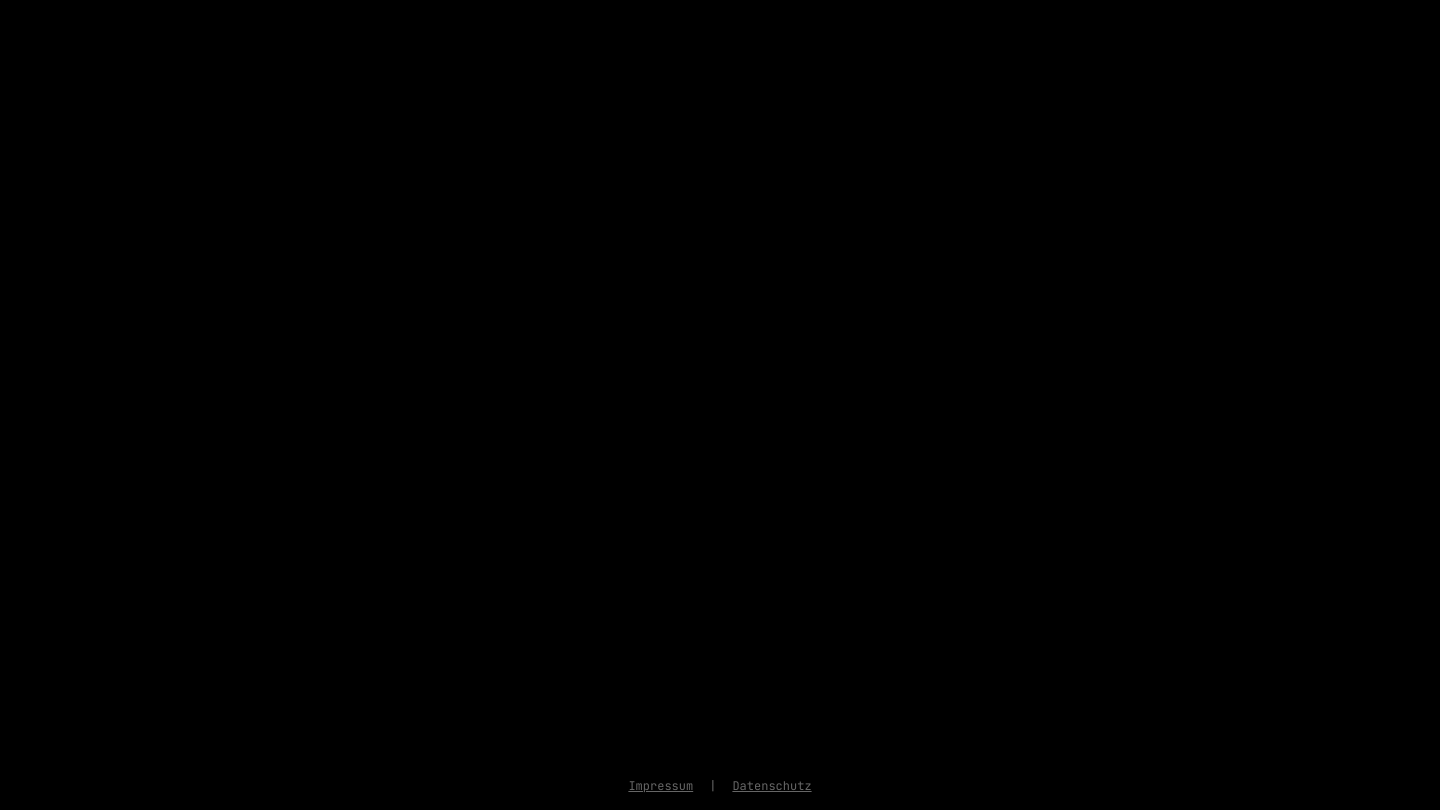
Test: App — learning mode routes to the hub › shows "Lernpfad" and does NOT auto-render the first level
# Intro screen → enter (Enter key dismisses it).
Press Enter
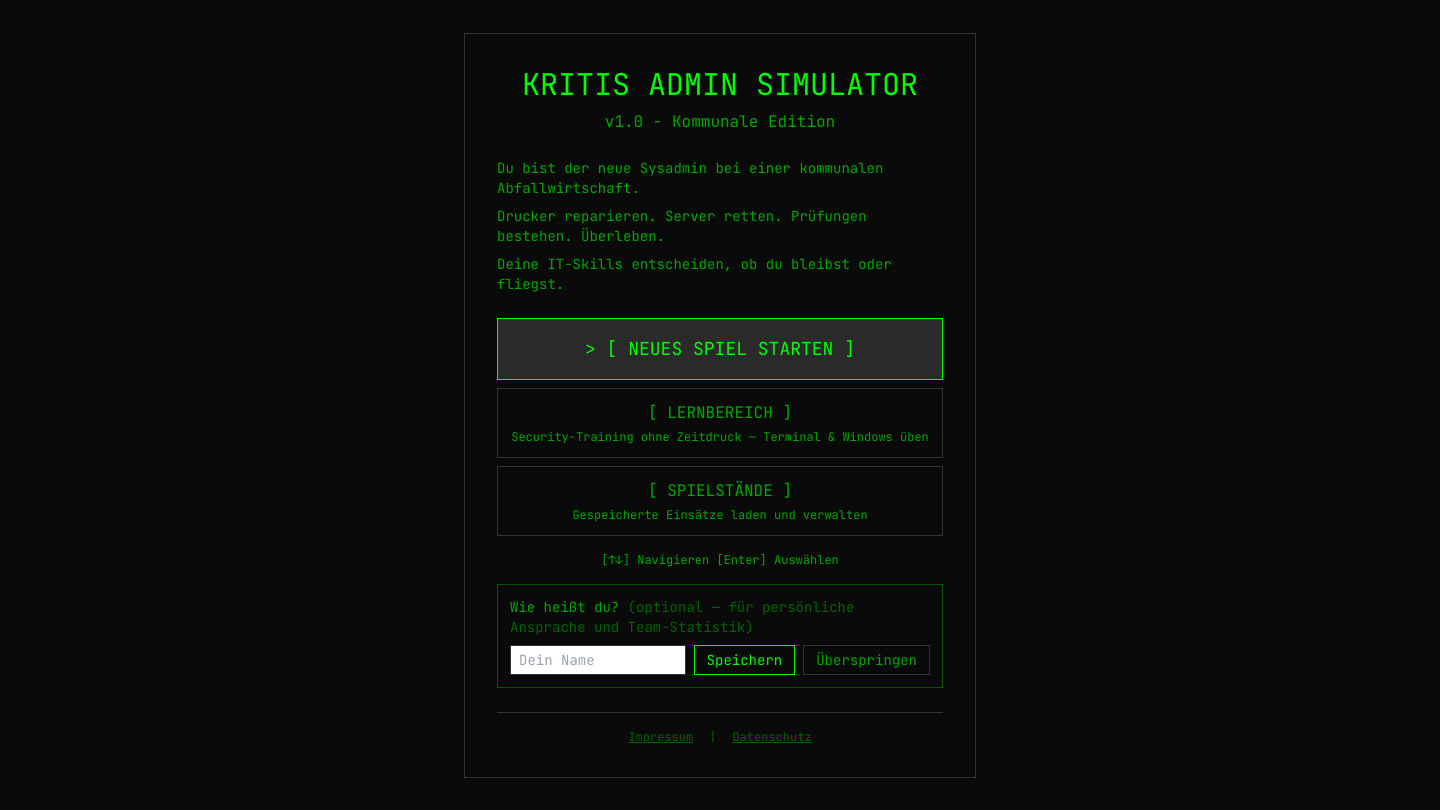
# Main menu → open the dedicated learning area directly.
Click the button "LERNBEREICH": point(720, 422) [497,388,943,458]
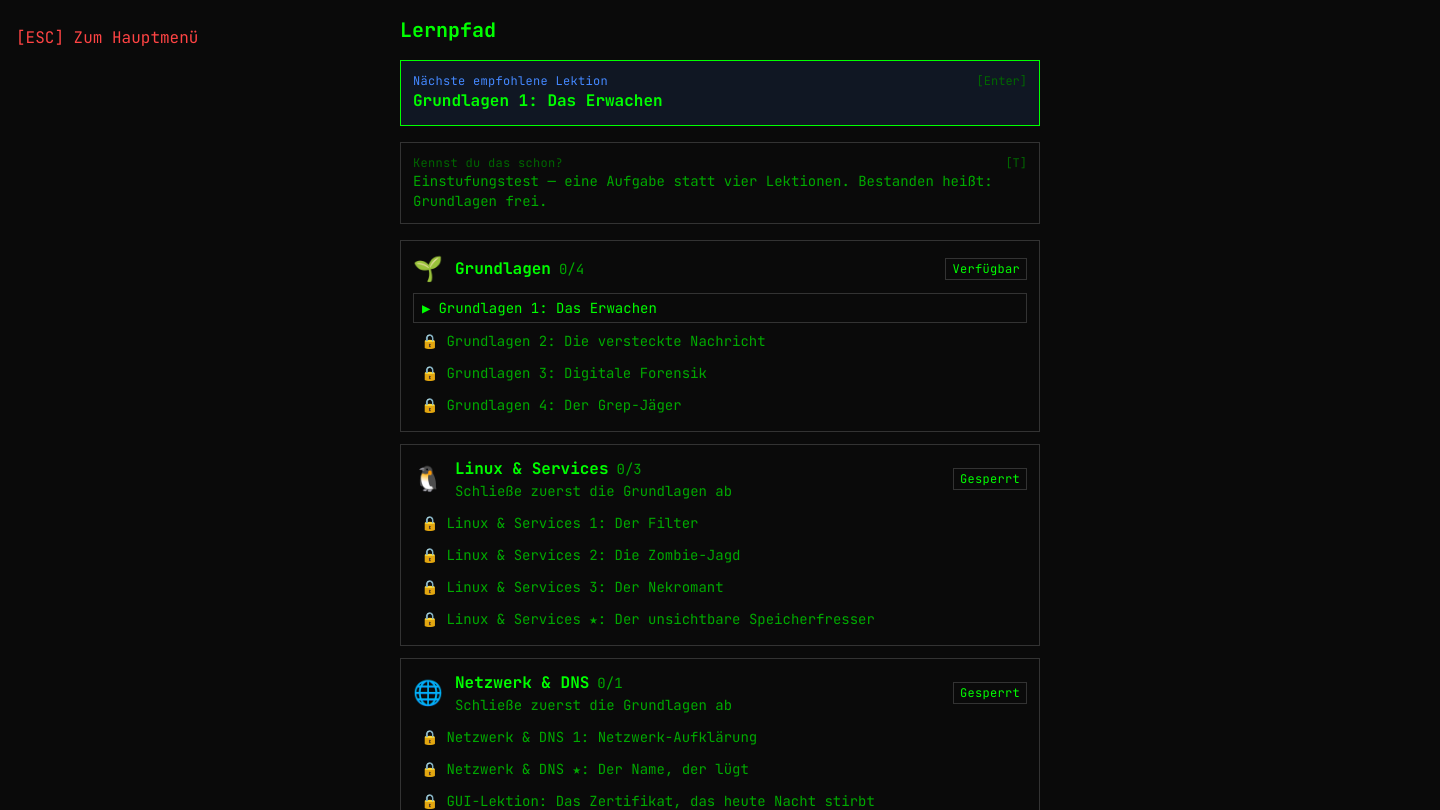
Check: the heading "Lernpfad" is shown, box [400,17,496,43]
Check: the text "Nächste empfohlene Lektion" is shown, box [413,73,608,89]
